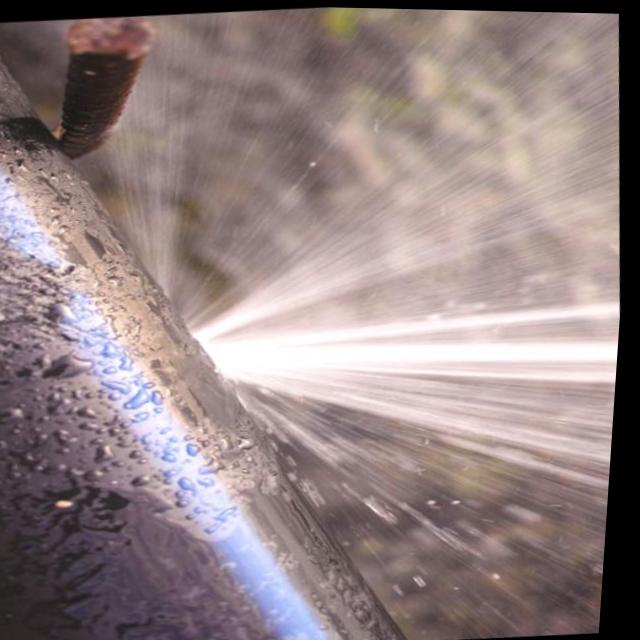leak: (104, 7, 617, 639)
